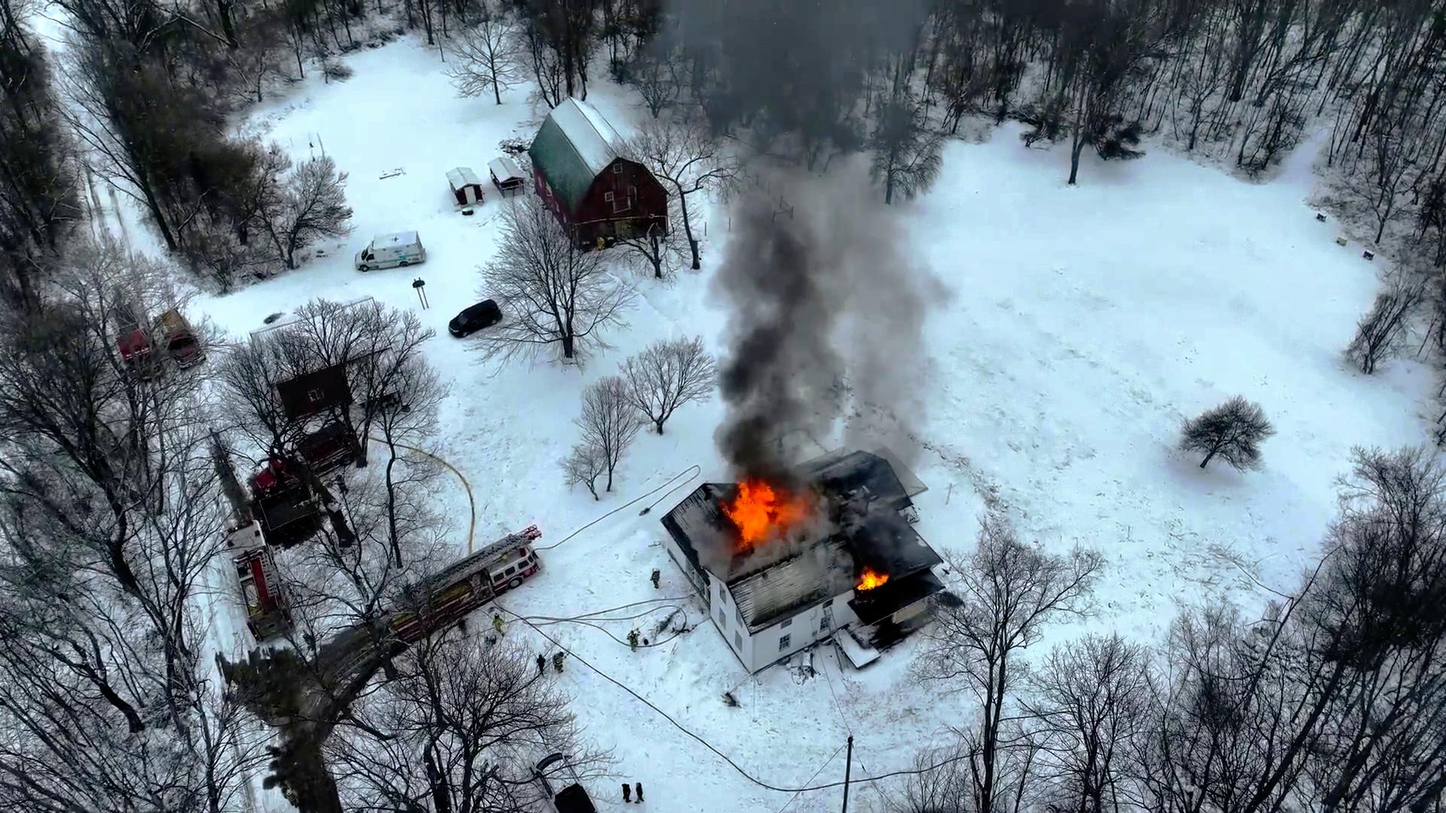fire: (735, 488, 785, 544), (857, 571, 885, 595)
smoke: (750, 286, 813, 461)
